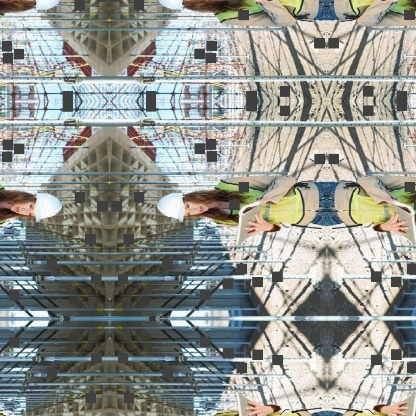vest: (211, 175, 304, 228)
white: (154, 191, 188, 226)
